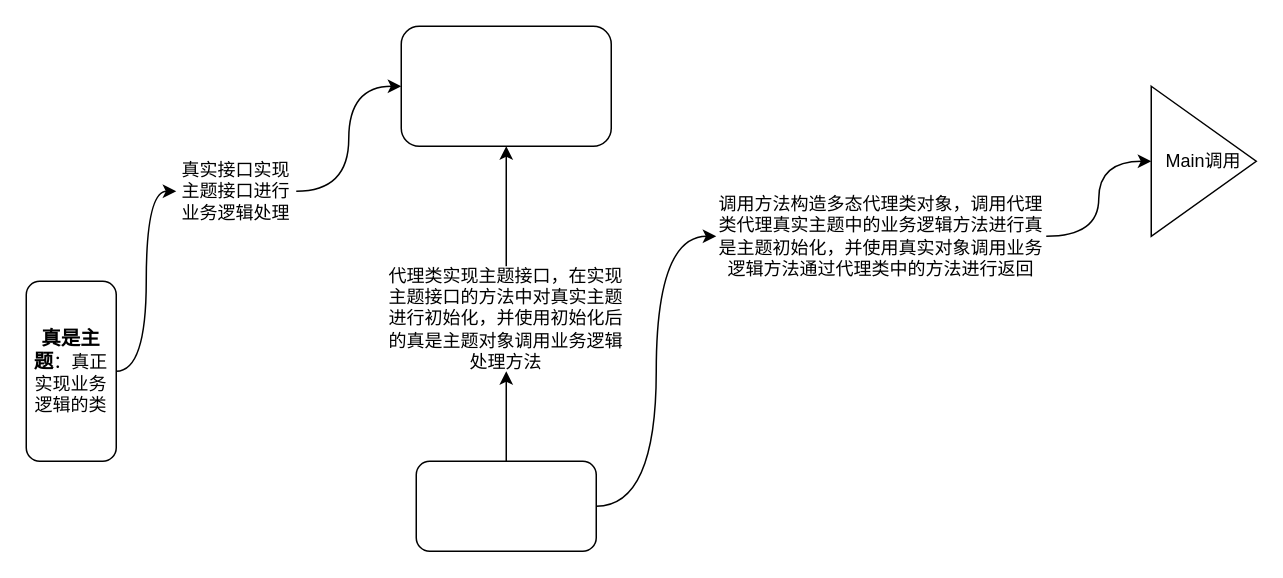
The diagram is 1283 pixels wide and 578 high, and some of its shapes have lost their labels. Each missing label, with the centre of its shape:
"主题接口 ：定义真是主题和代理类的公共方法，也是代理类代理真是主题的方法" belongs at point (505, 85).
"代理类 ： 用来代理和封装真实主题" belongs at point (505, 505).
